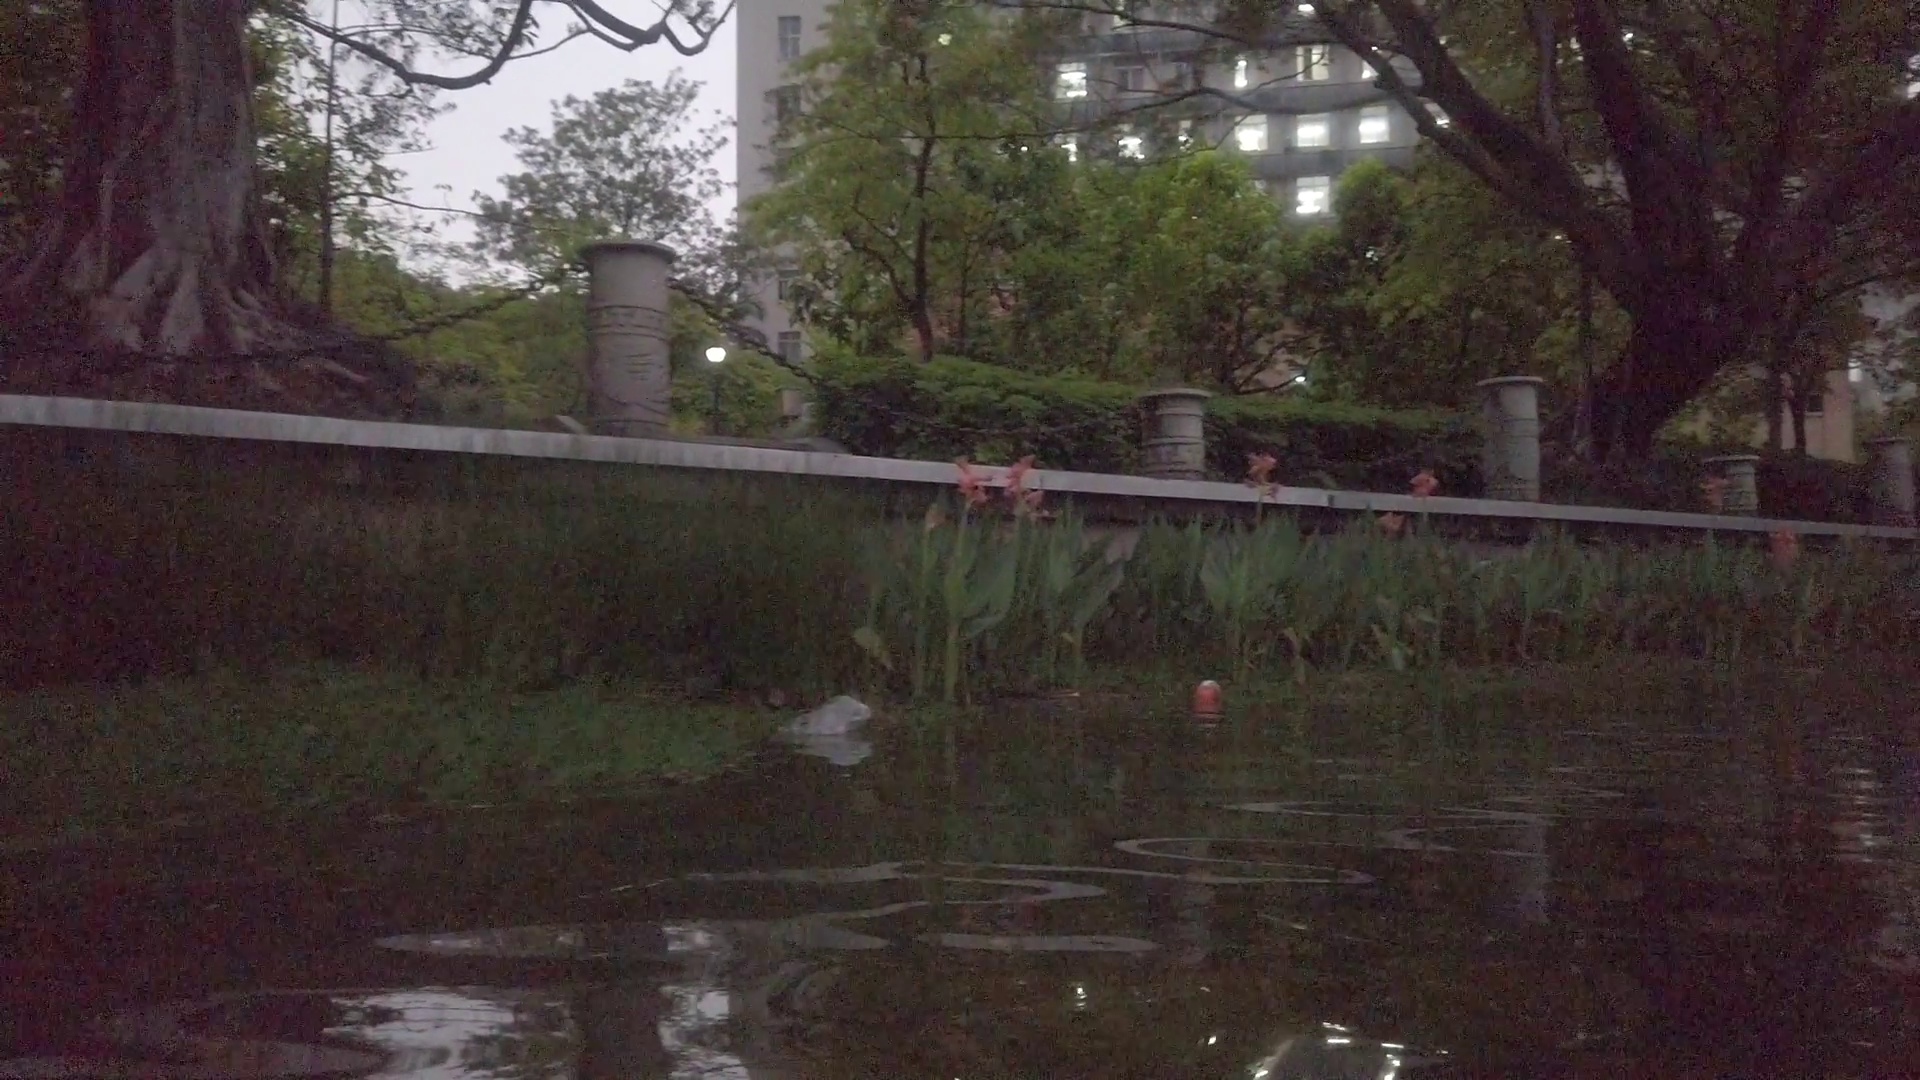bottle: (1193, 676, 1222, 702)
plastic: (782, 698, 881, 738)
